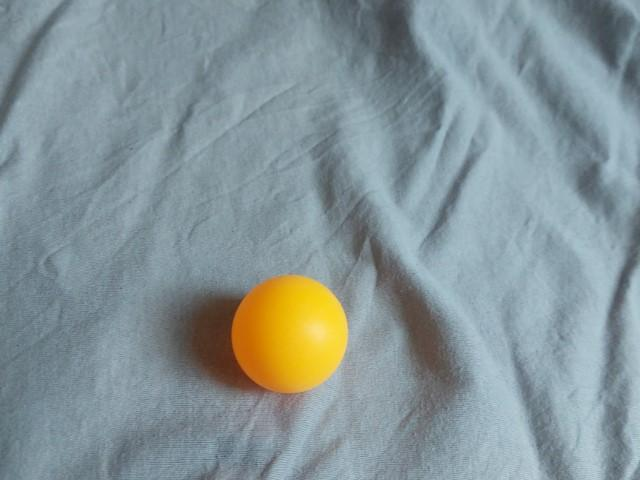oball: (220, 267, 362, 402)
